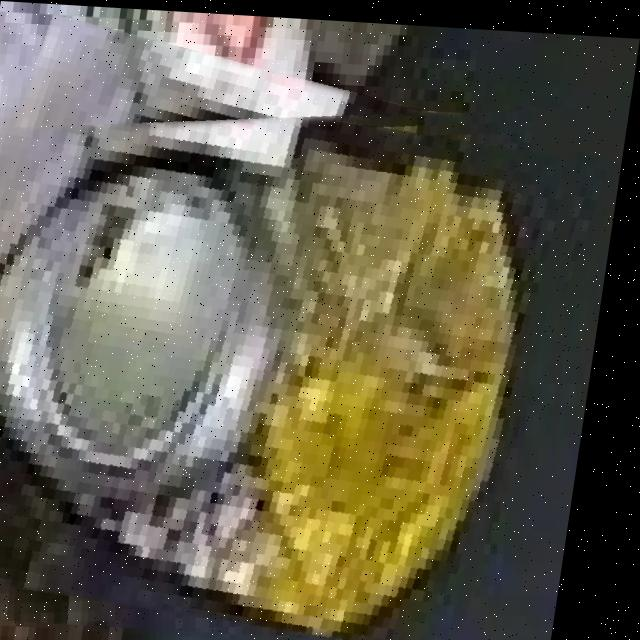can: (0, 111, 585, 639)
